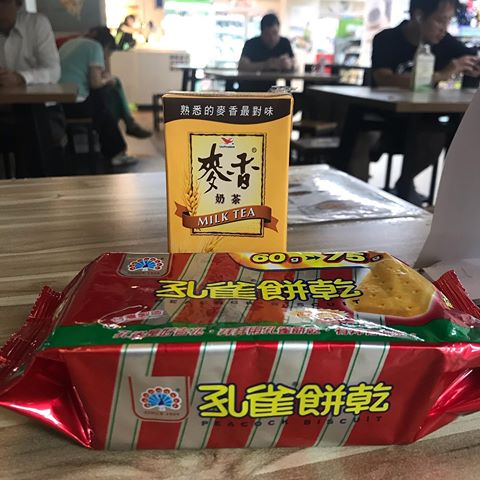milk tea: (163, 91, 288, 253)
